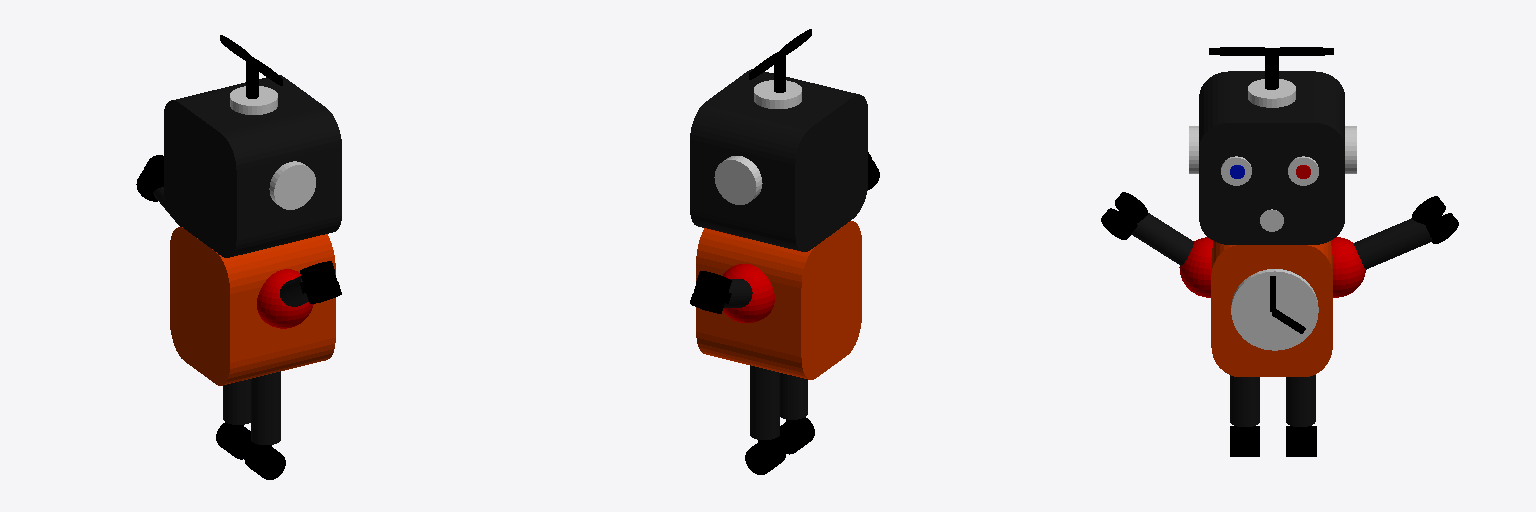
The model's file is robot_goed.obj.
3 views of the same model, side by side, from view 1: azimuth 30°, elevation 25°; view 2: azimuth 150°, elevation 25°; view 3: azimuth 270°, elevation 25° (orthographic).
Visible parts, largest first — view 1: Cube.001, Cube, Cylinder, Sphere, Cylinder.010, Cylinder.017, Cylinder.001, Cylinder.013, Cylinder.011, Cylinder.015, Cylinder.018, Cylinder.006; view 2: Cube.001, Cube, Cylinder.001, Cylinder.009, Sphere.001, Cylinder.018, Cylinder, Cylinder.011, Cylinder.015, Cylinder.013, Cylinder.007; view 3: Cube.001, Cube, Cylinder.008, Cylinder.007, Cylinder.006, Sphere.001, Cylinder.001, Cylinder, Sphere, Cylinder.017, Cylinder.018, Cylinder.011 (+7 smaller).
Part boxes in pixels (x1,y1,x2,y2): Cube.001: (164,75,341,257); Cube: (170,227,335,385); Cylinder: (251,371,280,444); Sphere: (257,269,313,328); Cylinder.010: (269,161,315,209); Cylinder.017: (300,261,341,303); Cylinder.001: (223,379,250,424); Cylinder.013: (244,443,285,479); Cylinder.011: (230,86,277,114); Cylinder.015: (216,422,252,459); Cylinder.018: (136,155,163,201); Cylinder.006: (280,276,308,306); Cube.001: (690,69,867,251); Cube: (696,221,861,379); Cylinder.001: (750,365,779,439); Cylinder.009: (714,156,762,204); Sphere.001: (723,264,774,322); Cylinder.018: (690,271,731,313); Cylinder: (780,373,807,419); Cylinder.011: (754,80,801,108); Cylinder.015: (745,438,786,474); Cylinder.013: (777,417,814,454); Cylinder.007: (724,279,752,307); Cube.001: (1199,71,1344,244); Cube: (1211,241,1332,376); Cylinder.008: (1231,269,1318,350); Cylinder.007: (1354,218,1432,269); Cylinder.006: (1131,213,1193,265); Sphere.001: (1331,237,1365,297); Cylinder.001: (1286,375,1315,426); Cylinder: (1230,375,1259,426); Sphere: (1179,237,1212,297); Cylinder.017: (1101,192,1147,239); Cylinder.018: (1412,196,1458,243); Cylinder.011: (1248,79,1295,107).
Size of the model in its own units: 2.28 by 7.38 by 5.9.